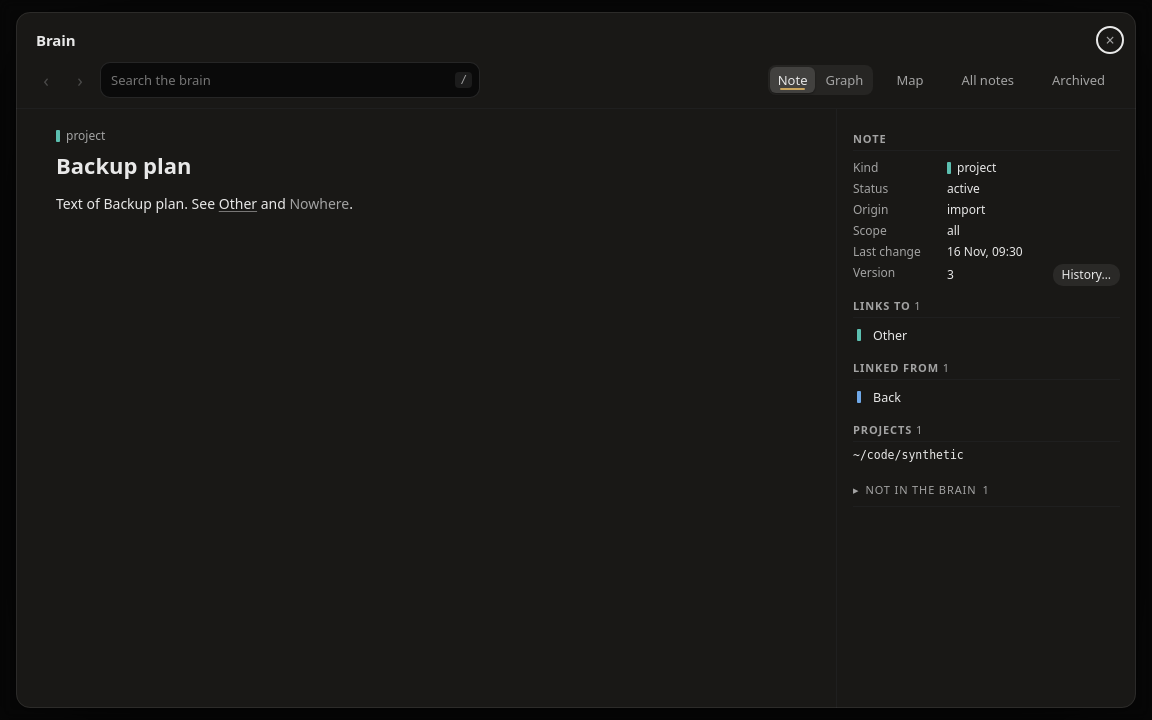
Brain page (128.1) › follows a link, then goes back and forward with Alt arrows
Click the link "Other" at [238, 204], box [219,194,257,213]
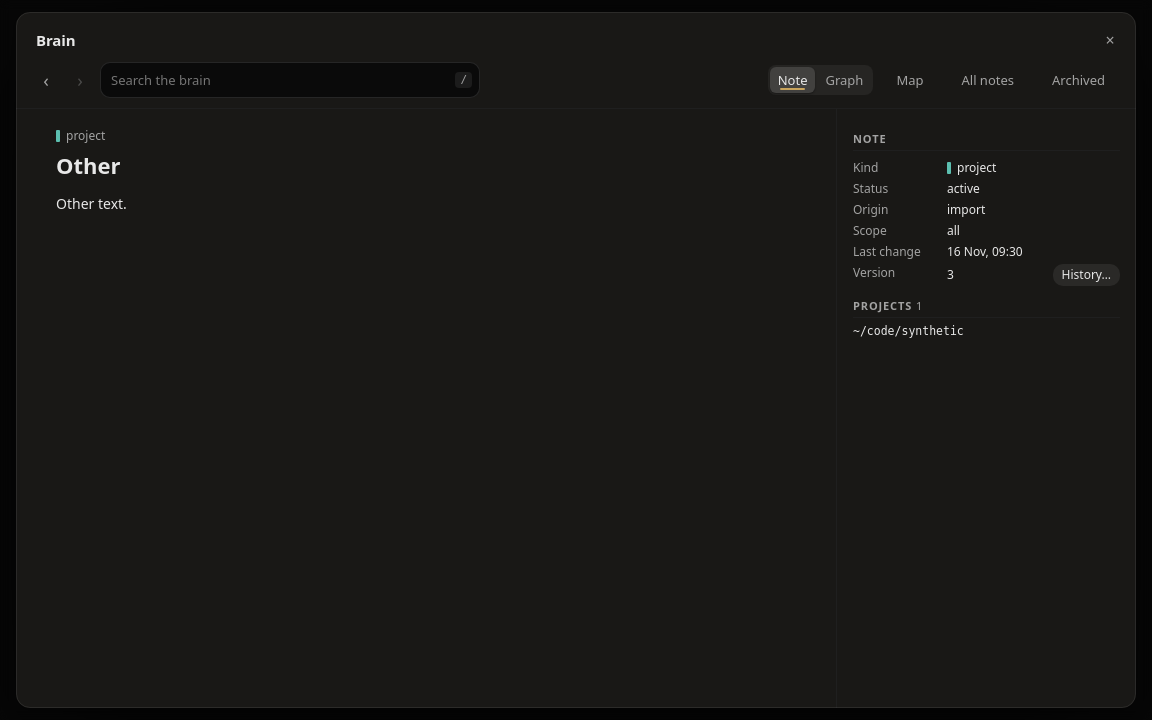
Check: the heading with class "b-title" reads "Other", box [56,150,120,180]
Press ArrowLeft in the element with class "b-box"
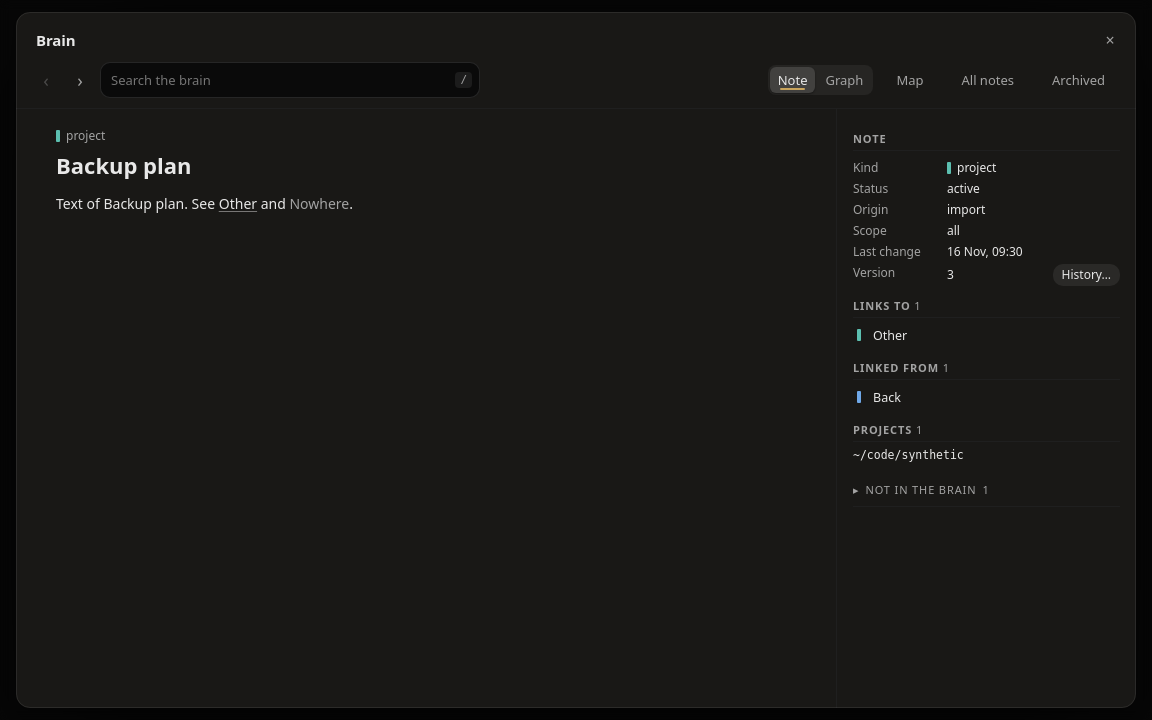
Check: the heading with class "b-title" reads "Backup plan", box [56,150,192,180]
Press ArrowRight in the element with class "b-box"
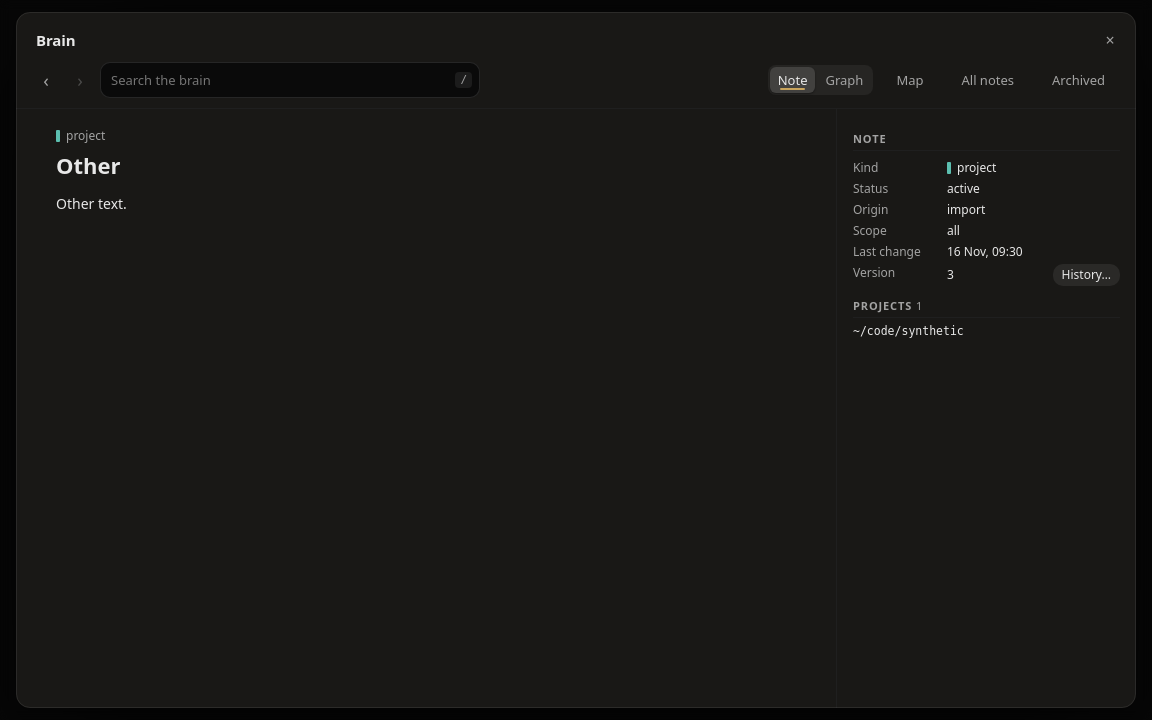
Check: the heading with class "b-title" reads "Other", box [56,150,120,180]
